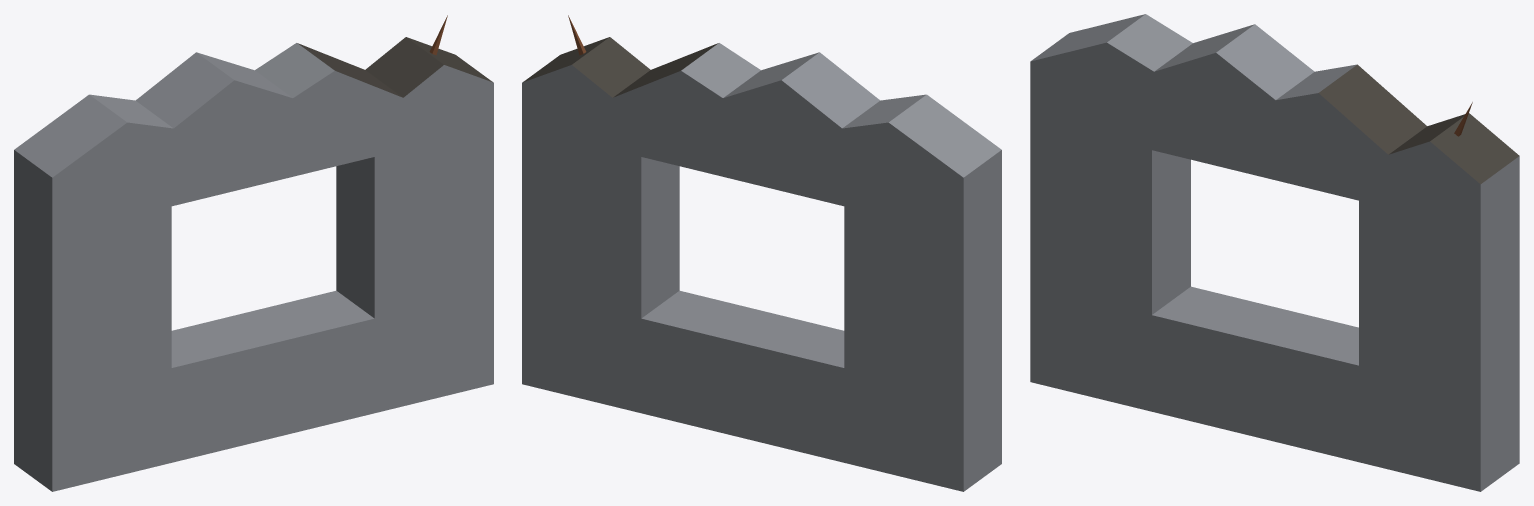
The model's file is SM_Ruin_Wall_B.fbx.
The picture shows the model from 3 angles, left to right: view 1: azimuth 30°, elevation 25°; view 2: azimuth 150°, elevation 25°; view 3: azimuth 330°, elevation 25°; orthographic projection. The views are drawn at different scales.
Visible parts, largest first — view 1: SM_Ruin_Wall_B; view 2: SM_Ruin_Wall_B; view 3: SM_Ruin_Wall_B.
Part boxes in pixels (<box>): SM_Ruin_Wall_B: <box>14,15,493,491</box>; SM_Ruin_Wall_B: <box>522,15,1001,491</box>; SM_Ruin_Wall_B: <box>1030,14,1519,491</box>.
Size of the model in its own units: 4 by 3.18 by 0.6.
